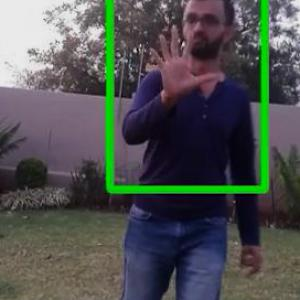follow_hand: (146, 19, 226, 99)
